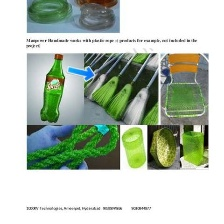bottle: (38, 52, 67, 124)
